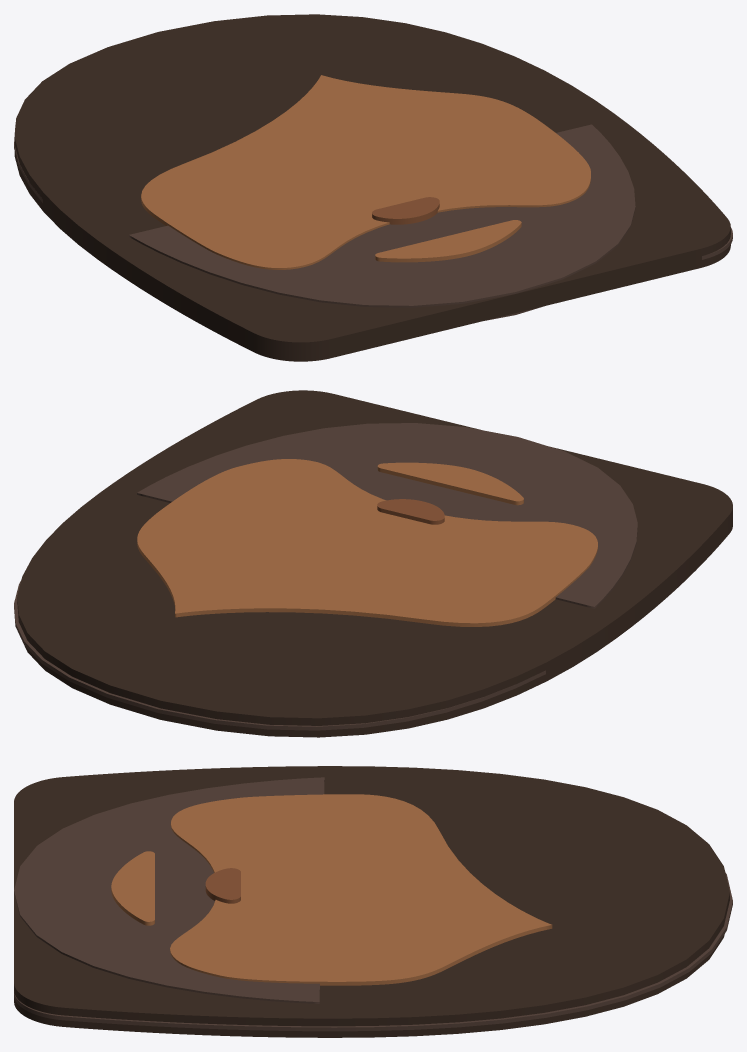
Rendered from emoji_u1f9d4_1f3fe_200d_2640.glb.
3 renders of one model, top to bottom at view 1: azimuth 30°, elevation 25°; view 2: azimuth 150°, elevation 25°; view 3: azimuth 270°, elevation 25°, orthographic.
Parts seen in each view (by area): view 1: emoji_u1f9d4_1f3fe_200d_2640; view 2: emoji_u1f9d4_1f3fe_200d_2640; view 3: emoji_u1f9d4_1f3fe_200d_2640.
Boxes of the visible parts, x1,y1,x2,y2 form: emoji_u1f9d4_1f3fe_200d_2640: (14, 14, 732, 361); emoji_u1f9d4_1f3fe_200d_2640: (14, 390, 732, 737); emoji_u1f9d4_1f3fe_200d_2640: (14, 766, 732, 1037).
Size of the model in its own units: 0.0283 by 0.0018 by 0.0339.
